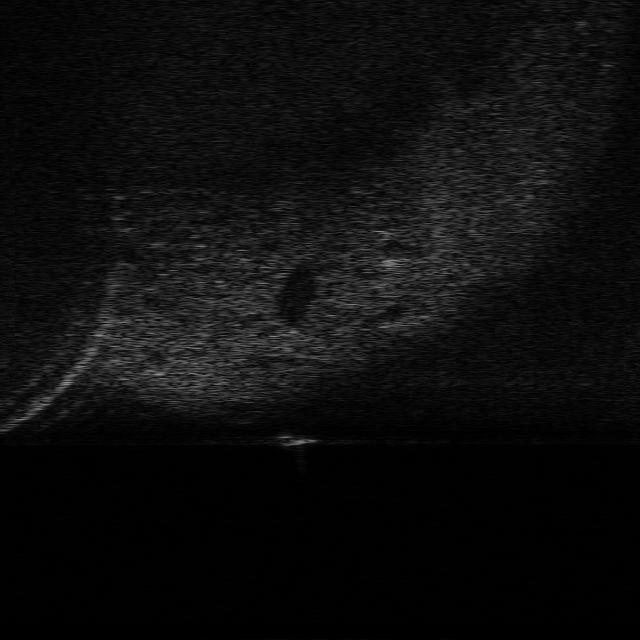cube: (274, 426, 321, 448)
